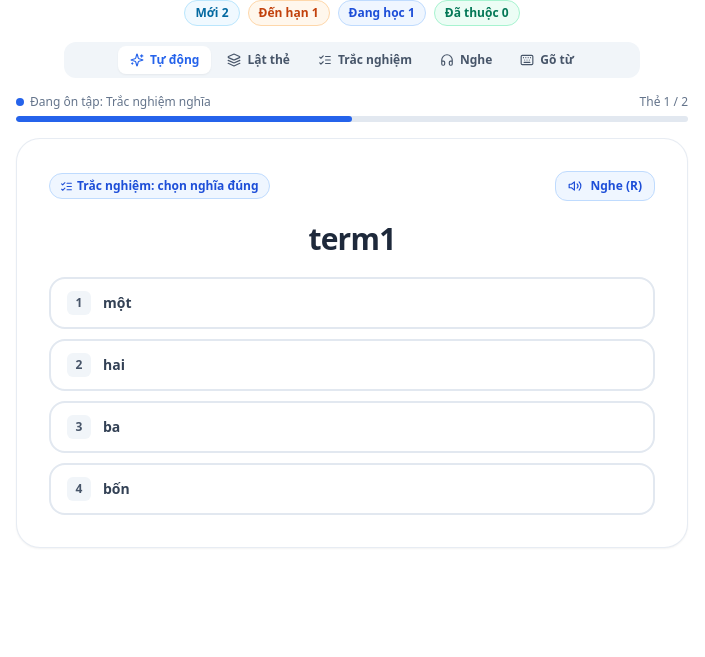
it: StudyMode: multiple choice › rates Good (3) for a correct answer and Again (1) for a wrong one, then shows the summary
Step 1. Click the button "1 một" → click(79, 303), box [49,277,655,329]
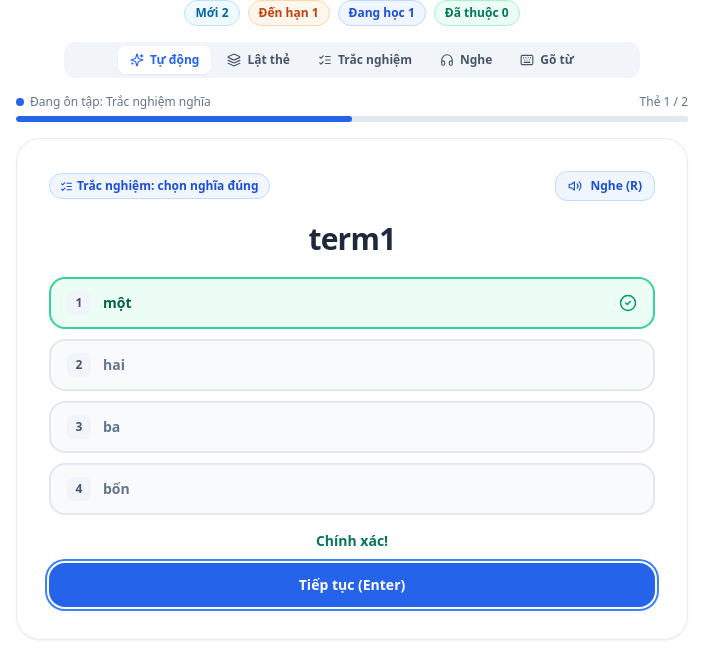
Expected: the text "Chính xác!" is shown, [316,531,388,550]
Step 2. Click the button "Tiếp tục (Enter)" → click(352, 585), box [49,563,655,607]
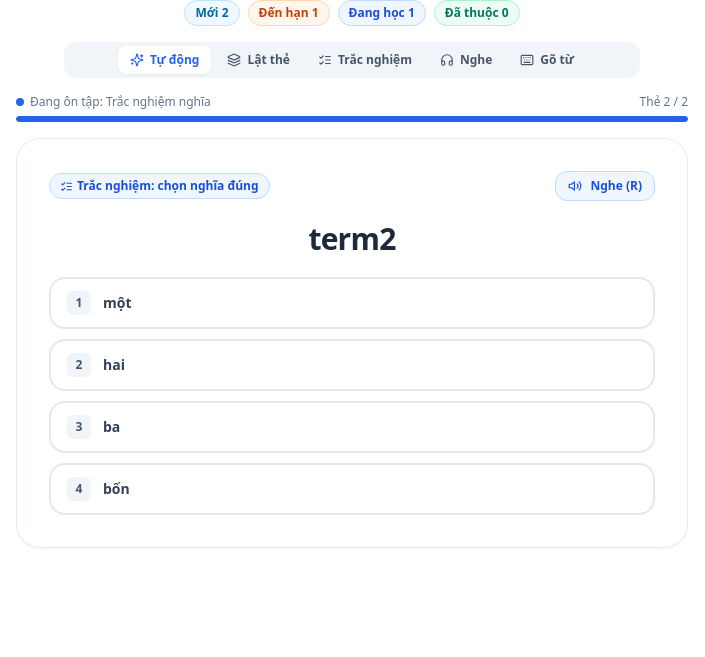
Expected: the heading "term2" is shown, [308,218,396,259]
Step 3. Click the button "3 ba" → click(79, 427), box [49,401,655,453]
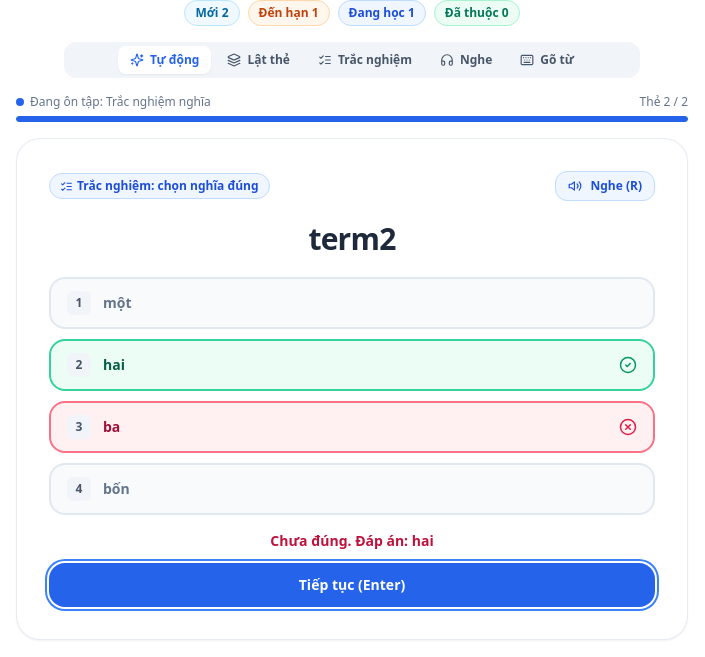
Expected: the text "Chưa đúng. Đáp án: hai" is shown, [270,531,434,550]
Step 4. Click the button "Tiếp tục (Enter)" → click(352, 585), box [49,563,655,607]
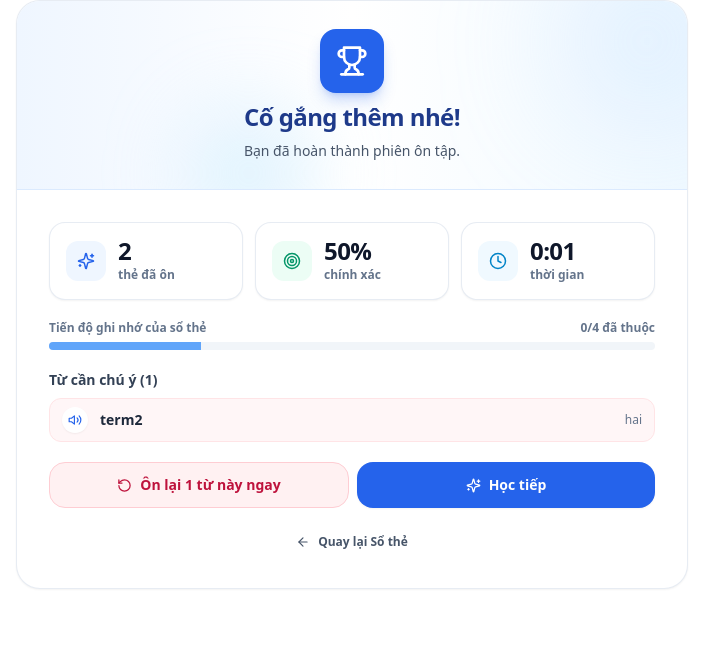
Expected: the text "2" is shown, [118,234,131,267]
Expected: the heading "Từ cần chú ý (1)" is shown, [49,370,158,389]
Expected: the text "50%" is shown, [324,234,371,267]
